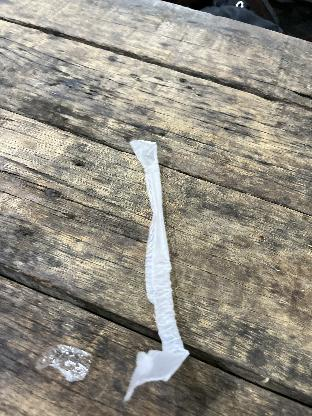Others: (116, 134, 192, 404), (41, 344, 93, 382)
